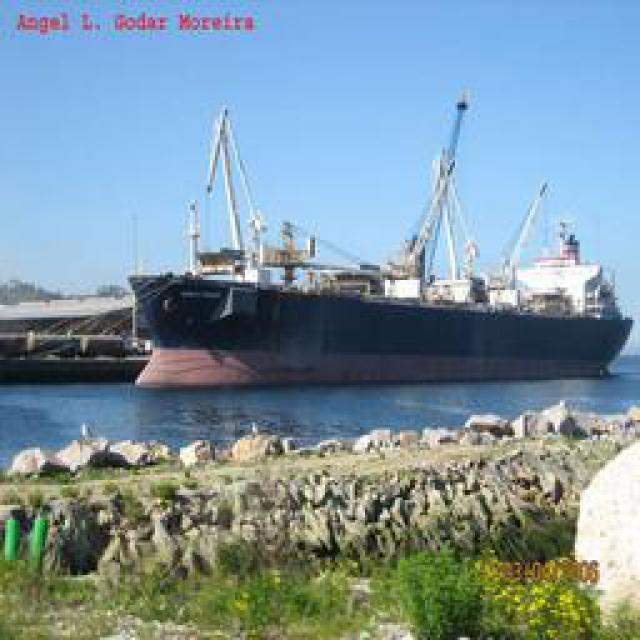Ship: (118, 103, 632, 385)
